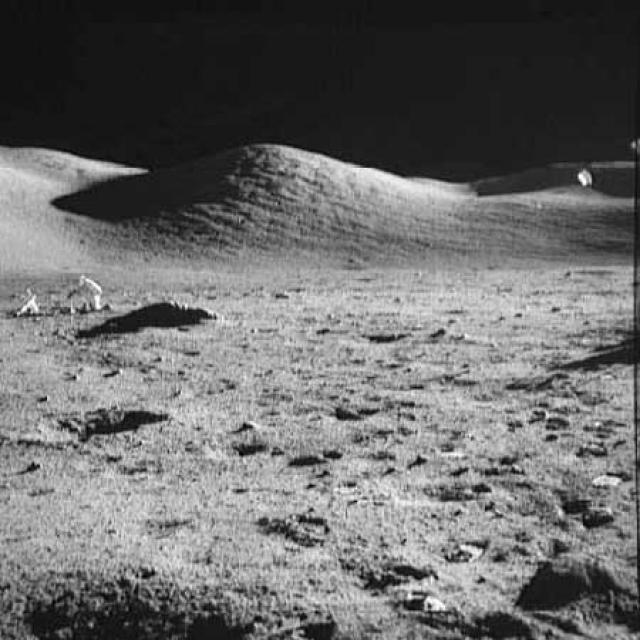artifact: (12, 278, 43, 319)
crater: (38, 401, 169, 444)
rock: (75, 299, 225, 344)
